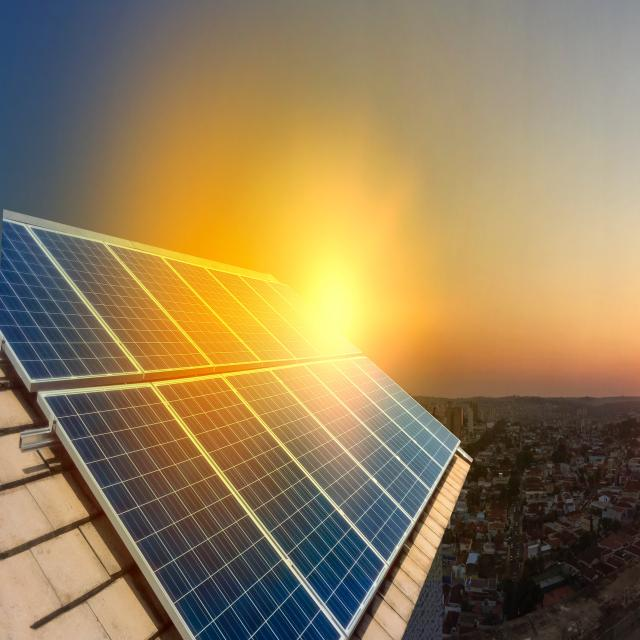clean-solar-panel: (0, 212, 459, 638)
